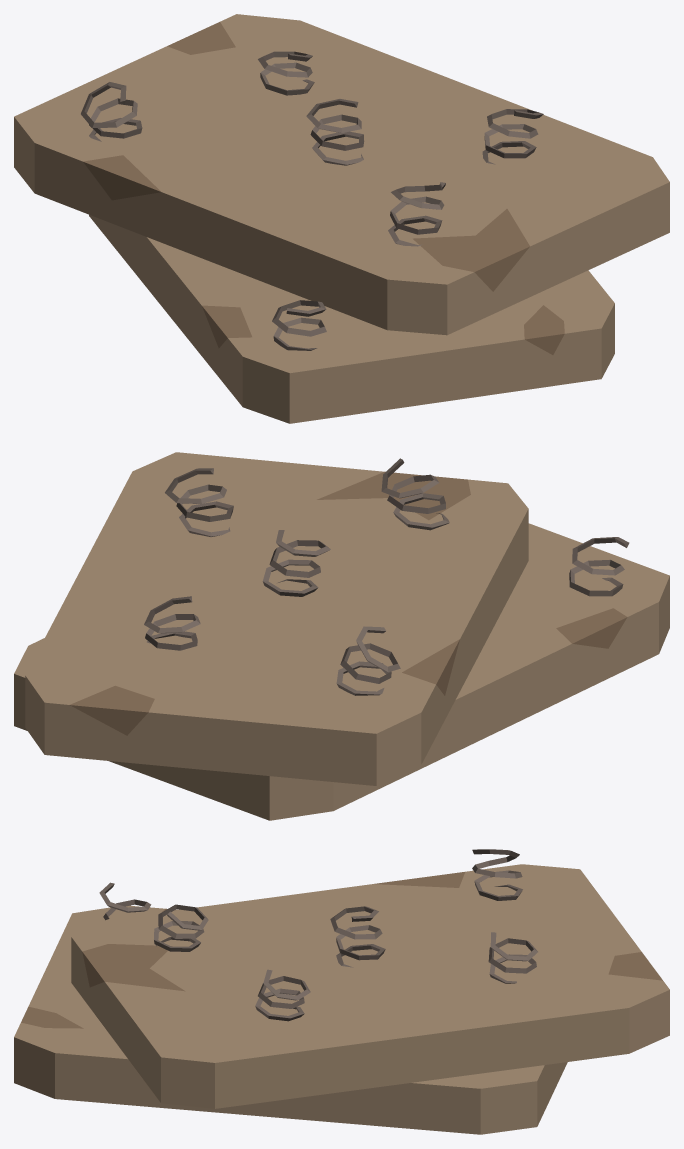
Rendered from LP_PostApoc_MattressPile.fbx.
3 renders of one model, top to bottom at view 1: azimuth 30°, elevation 25°; view 2: azimuth 150°, elevation 25°; view 3: azimuth 270°, elevation 25°, orthographic. The views are drawn at different scales.
Parts seen in each view (by area): view 1: MattressPile; view 2: MattressPile; view 3: MattressPile.
Part boxes in pixels (x1,y1,x2,y2): MattressPile: (14,14,669,423); MattressPile: (14,452,669,820); MattressPile: (14,849,669,1134).
Bounding box in the file's own units: 158 × 50.66 × 216.
